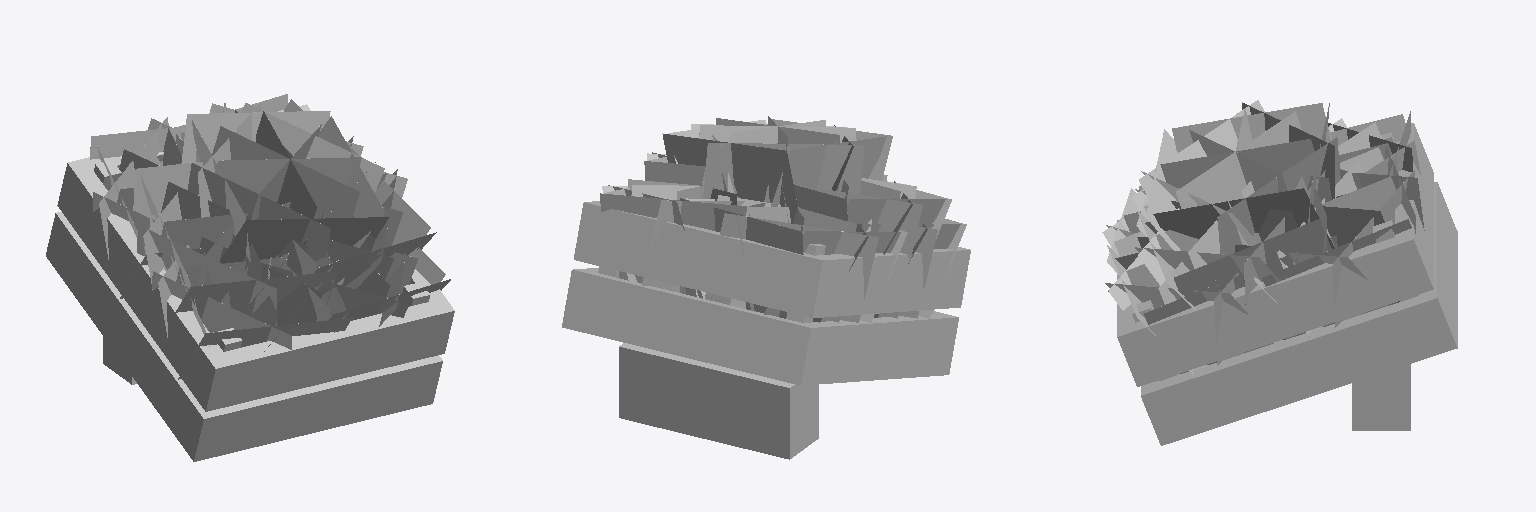
Rendered from 1766_lettuce_crate.obj.
3 views of the same model, side by side, from view 1: azimuth 30°, elevation 25°; view 2: azimuth 150°, elevation 25°; view 3: azimuth 270°, elevation 25° (orthographic).
Visible parts, largest first — view 1: Plank8, Plank2, Plank9, Lettuce1, Plank3, Lettuce2, Lettuce3c, Lettuce1c, Lettuce3, Lettuce1a, Lettuce3b, Lettuce2c (+7 smaller); view 2: Block, Plank12, Plank11, Lettuce1c, Plank9, Plank8, Lettuce2c, Lettuce1b, Lettuce3, Lettuce3a, Lettuce3b, Lettuce1 (+6 smaller); view 3: Plank6, Plank5, Lettuce1a, Lettuce3b, Lettuce2a, Lettuce3c, Lettuce1b, Lettuce3a, Block, Lettuce2b, Lettuce1, Lettuce2 (+5 smaller).
Boxes of the visible parts, box(x1,y1,x2,y2) form: Plank8: box(57, 158, 232, 411); Plank2: box(223, 302, 437, 407); Plank9: box(46, 211, 220, 461); Lettuce1: box(120, 217, 450, 379); Plank3: box(211, 359, 425, 457); Lettuce2: box(93, 163, 408, 349); Lettuce3c: box(119, 126, 417, 325); Lettuce1c: box(90, 94, 330, 230); Lettuce3: box(117, 157, 386, 286); Lettuce1a: box(284, 99, 445, 332); Lettuce3b: box(163, 110, 389, 325); Lettuce2c: box(99, 103, 271, 366); Block: box(619, 343, 818, 459); Plank12: box(579, 273, 800, 381); Plank11: box(591, 207, 813, 313); Lettuce1c: box(600, 133, 861, 318); Plank9: box(784, 313, 958, 385); Plank8: box(796, 247, 970, 317); Lettuce2c: box(642, 143, 937, 322); Lettuce1b: box(710, 136, 960, 316); Lettuce3: box(628, 118, 900, 322); Lettuce3a: box(631, 125, 916, 231); Lettuce3b: box(672, 120, 887, 308); Lettuce1: box(767, 119, 966, 322); Plank6: box(1141, 290, 1457, 445); Plank5: box(1117, 231, 1433, 386); Lettuce1a: box(1115, 188, 1411, 373); Lettuce3b: box(1124, 139, 1396, 286); Lettuce2a: box(1214, 137, 1420, 365); Lettuce3c: box(1136, 111, 1381, 368); Lettuce1b: box(1114, 103, 1409, 256); Lettuce3a: box(1137, 130, 1399, 339); Block: box(1352, 364, 1410, 430); Lettuce2b: box(1105, 171, 1389, 352); Lettuce1: box(1107, 129, 1310, 374); Lettuce2: box(1102, 100, 1346, 310).
Bounding box in the file's own units: 0.981 × 0.9388 × 1.12.